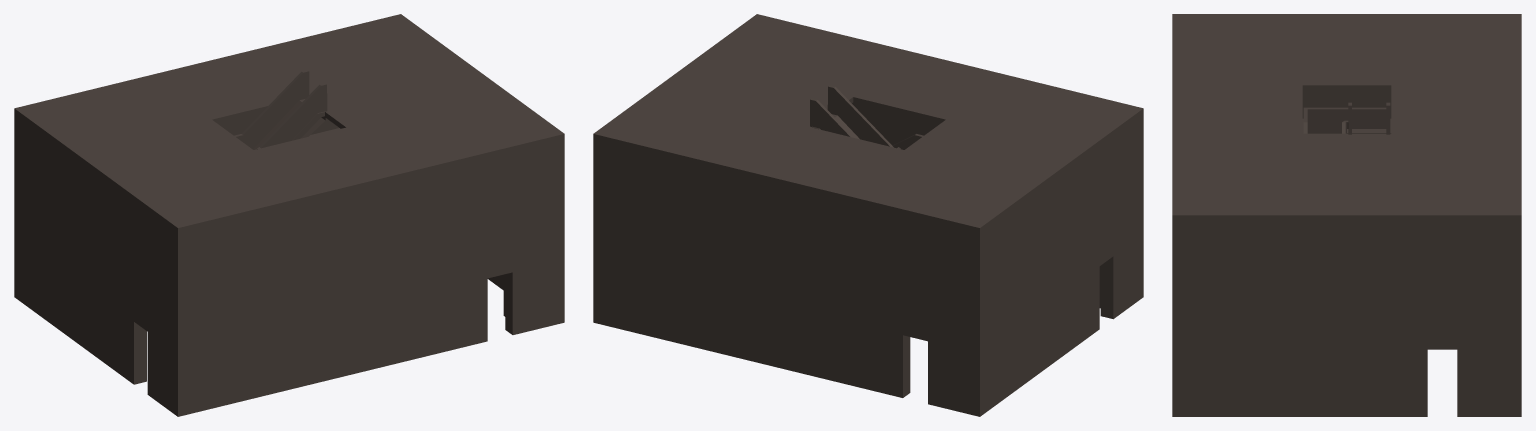
File: SM_Bldg_City_High-Rise_06_Base_Collider.fbx
The picture shows the model from 3 angles, left to right: view 1: azimuth 30°, elevation 25°; view 2: azimuth 150°, elevation 25°; view 3: azimuth 270°, elevation 25°; orthographic projection. The views are drawn at different scales.
Visible parts, largest first — view 1: SM_Bldg_City_High-Rise_06_Base_Collider; view 2: SM_Bldg_City_High-Rise_06_Base_Collider; view 3: SM_Bldg_City_High-Rise_06_Base_Collider.
Boxes of the visible parts, <box> form: SM_Bldg_City_High-Rise_06_Base_Collider: <box>14,14,564,416</box>; SM_Bldg_City_High-Rise_06_Base_Collider: <box>593,14,1143,416</box>; SM_Bldg_City_High-Rise_06_Base_Collider: <box>1172,14,1521,416</box>.
Bounding box in the file's own units: 1500 × 802 × 1100.
